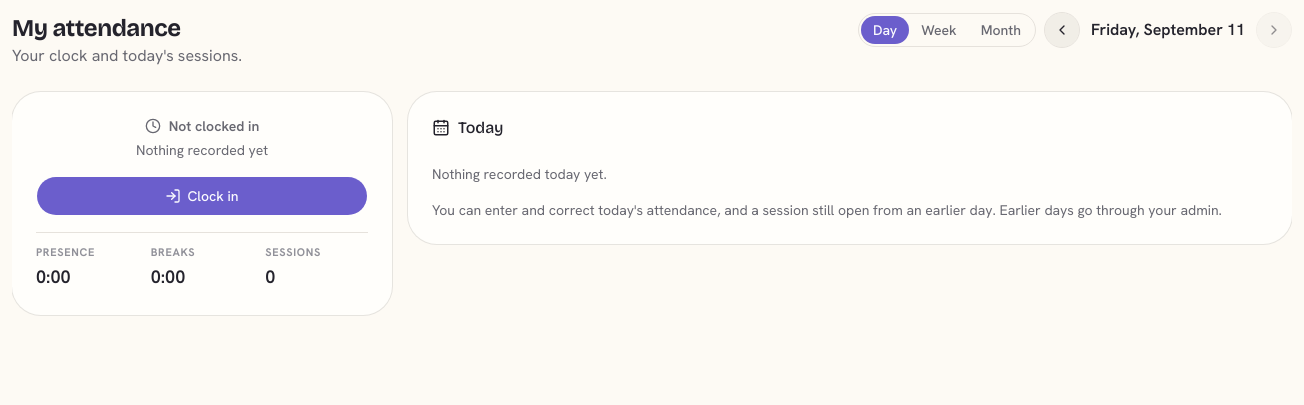
MyAttendanceScreen › a day and the self-service window › steps back to an earlier day and returns to today
This screenshot has width=1304, height=405.
Click the button named "Previous" at (1062, 30), box [1044,12,1080,48]
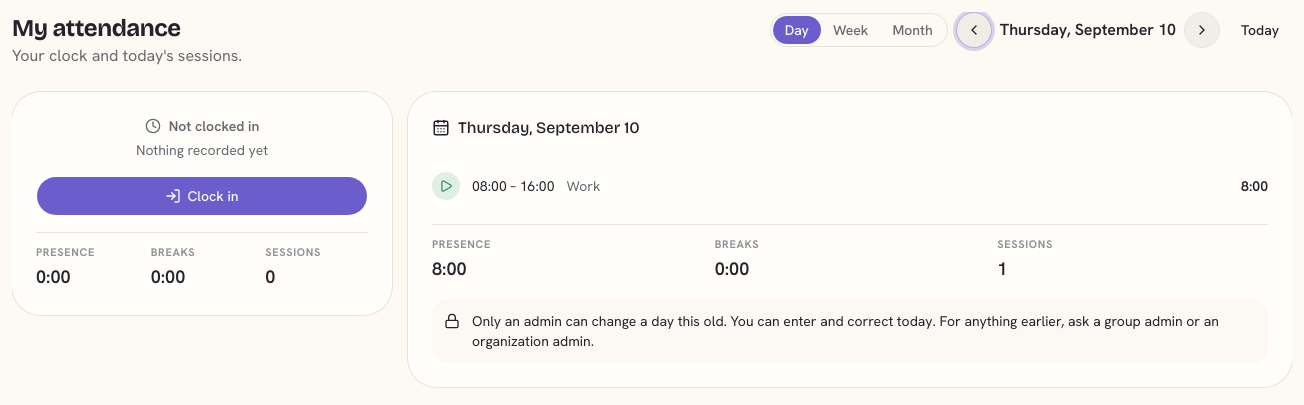
Expected: the text "Thursday, September 10" is shown, [1000,18,1176,42]
Expected: the text "08:00 – 16:00" is shown, [472,176,554,196]
Click the button "Today" at (1260, 30), box [1228,14,1292,46]
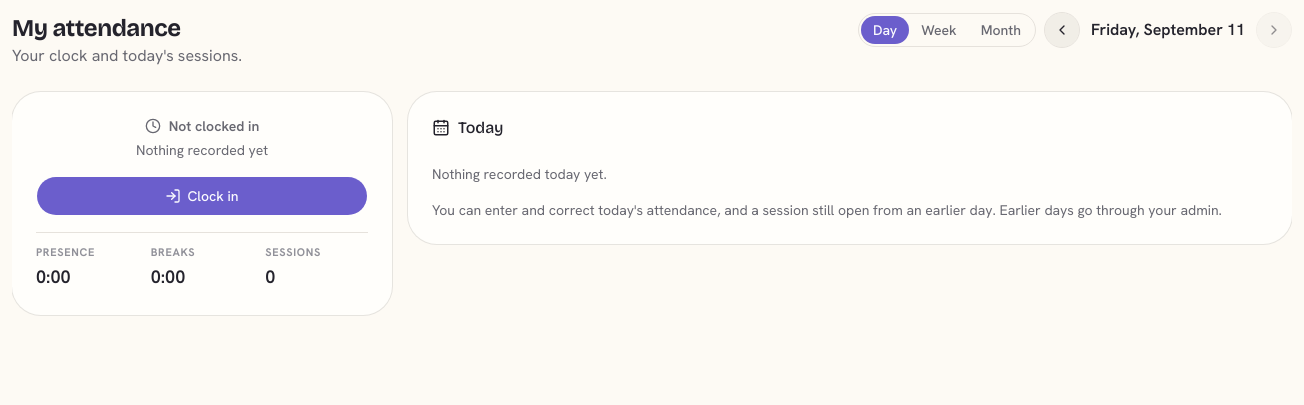
Expected: the text "Nothing recorded today yet." is shown, [432,164,607,184]
